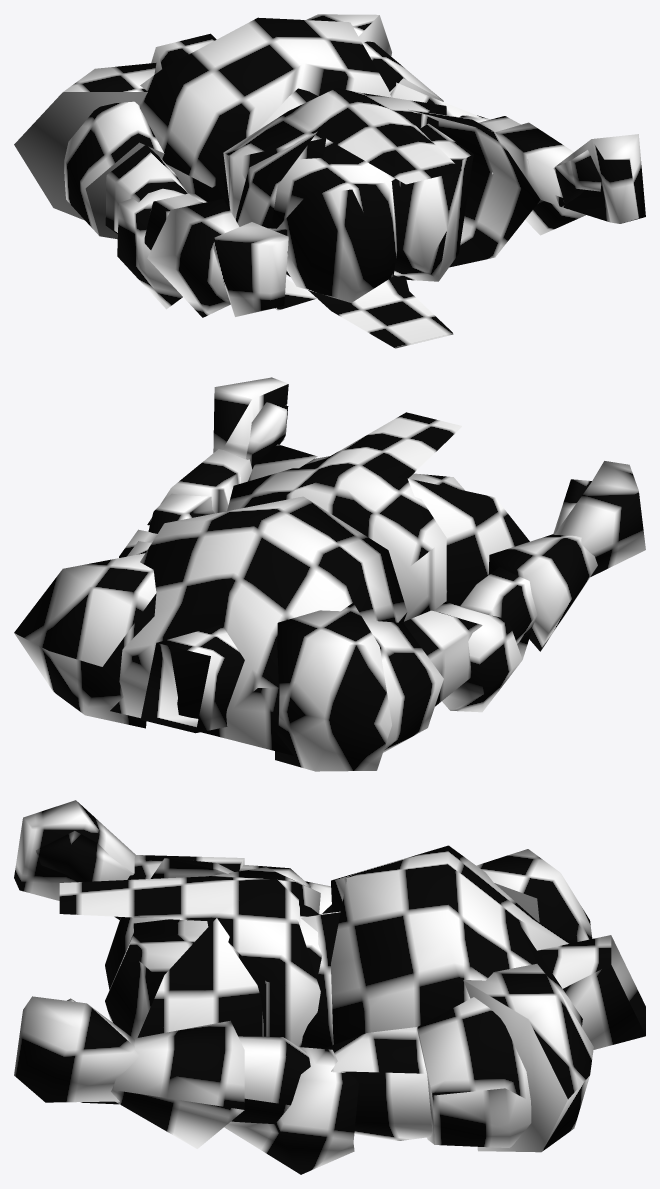
The model's file is initarpl2.dae.
The picture shows the model from 3 angles, top to bottom: view 1: azimuth 30°, elevation 25°; view 2: azimuth 150°, elevation 25°; view 3: azimuth 270°, elevation 25°; orthographic projection. The views are drawn at different scales.
Parts seen in each view (by area): view 1: armor; view 2: armor; view 3: armor.
Part boxes in pixels (x1,y1,x2,y2): armor: [14, 14, 645, 348]; armor: [14, 377, 645, 771]; armor: [14, 800, 645, 1174].
Size of the model in its own units: 1.6 by 1.88 by 0.7524.
1 material, 1 textured.
